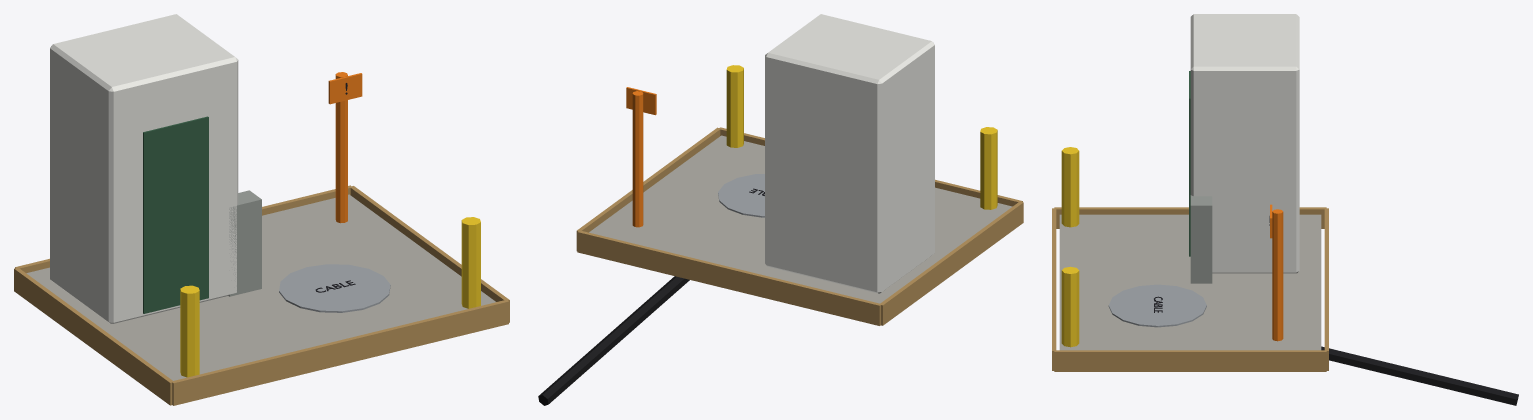
File: site.cable-landing.glb
The picture shows the model from 3 angles, left to right: view 1: azimuth 30°, elevation 25°; view 2: azimuth 150°, elevation 25°; view 3: azimuth 270°, elevation 25°; orthographic projection. The views are drawn at different scales.
Visible parts, largest first — view 1: hut, pad, hut-door, form0, form2, manhole, power, bollard-1.3, bollard1.3, form3, marker, form1 (+1 smaller); view 2: hut, pad, form1, form2, sea-cable, marker, manhole, form3, bollard-1.3, bollard1.3, form0, marker-sign; view 3: hut, pad, form3, manhole, sea-cable, power, marker, bollard1.3, bollard-1.3, form2, form1, form0.
Part boxes in pixels (left/top/right/bottom): hut: left=50, top=14, right=238, bottom=323; pad: left=26, top=194, right=495, bottom=380; hut-door: left=143, top=116, right=208, bottom=313; form0: left=172, top=300, right=508, bottom=405; form2: left=14, top=268, right=173, bottom=405; manhole: left=279, top=264, right=390, bottom=312; power: left=228, top=190, right=261, bottom=296; bollard-1.3: left=180, top=285, right=199, bottom=377; bollard1.3: left=461, top=217, right=480, bottom=308; form3: left=349, top=186, right=509, bottom=322; marker: left=335, top=72, right=347, bottom=223; form1: left=15, top=185, right=351, bottom=273; hut: left=765, top=14, right=934, bottom=293; pad: left=589, top=135, right=1012, bottom=303; form1: left=577, top=231, right=880, bottom=325; form2: left=879, top=202, right=1023, bottom=325; sea-cable: left=538, top=276, right=689, bottom=405; marker: left=632, top=91, right=643, bottom=227; manhole: left=718, top=174, right=764, bottom=217; form3: left=576, top=127, right=720, bottom=250; bollard-1.3: left=980, top=127, right=997, bottom=209; bollard1.3: left=726, top=65, right=743, bottom=147; form0: left=719, top=127, right=1022, bottom=206; marker-sign: left=626, top=87, right=656, bottom=115; hut: left=1190, top=14, right=1299, bottom=273; pad: left=1059, top=214, right=1321, bottom=350; form3: left=1054, top=350, right=1326, bottom=371; manhole: left=1108, top=284, right=1206, bottom=327; sea-cable: left=1321, top=346, right=1518, bottom=405; power: left=1190, top=195, right=1212, bottom=283; marker: left=1272, top=209, right=1283, bottom=341; bollard1.3: left=1061, top=266, right=1079, bottom=347; bollard-1.3: left=1061, top=147, right=1079, bottom=227; form2: left=1054, top=207, right=1326, bottom=228; form1: left=1324, top=208, right=1328, bottom=370; form0: left=1052, top=208, right=1056, bottom=370.
Size of the model in its own units: 3.14 by 2.91 by 4.28.
